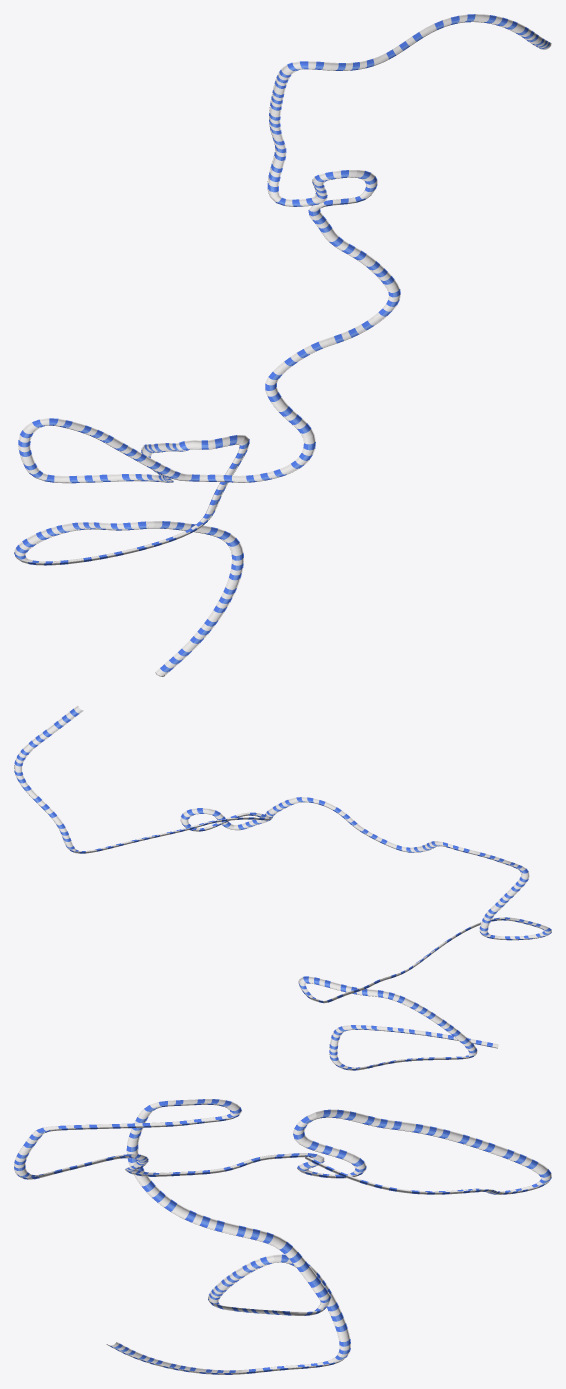
Rendered from _lider3.fbx.
The picture shows the model from 3 angles, top to bottom: view 1: azimuth 30°, elevation 25°; view 2: azimuth 150°, elevation 25°; view 3: azimuth 270°, elevation 25°; orthographic projection. The views are drawn at different scales.
Parts seen in each view (by area): view 1: Kaydırak3; view 2: Kaydırak3; view 3: Kaydırak3.
Boxes of the visible parts, x1,y1,x2,y2 form: Kaydırak3: [14, 14, 551, 676]; Kaydırak3: [14, 705, 551, 1070]; Kaydırak3: [14, 1099, 551, 1374].
Size of the model in its own units: 2989 by 2031 by 2362.
